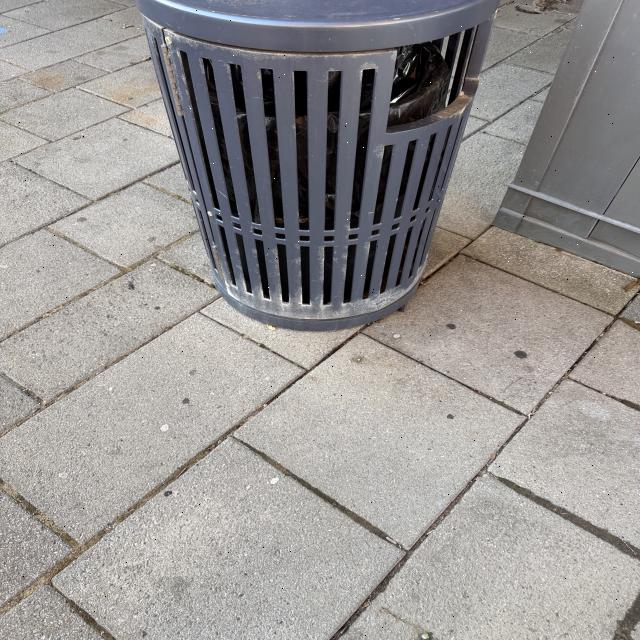Dustbin: (139, 2, 500, 332)
